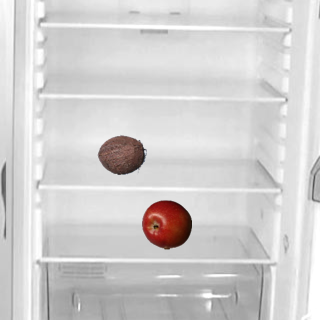Apple Braeburn: (141, 199, 191, 249)
Cocos: (96, 129, 146, 179)
